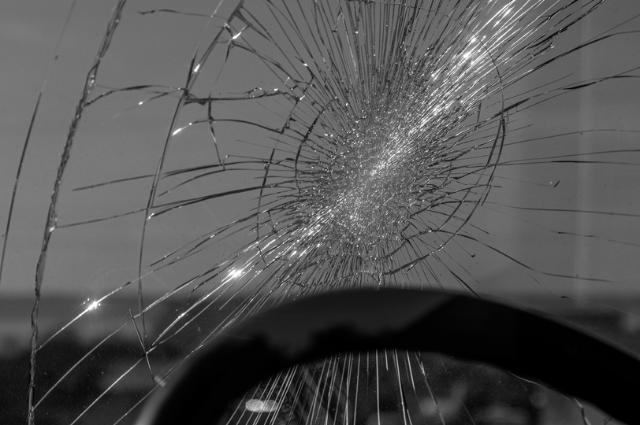Windshield: (1, 0, 640, 424)
